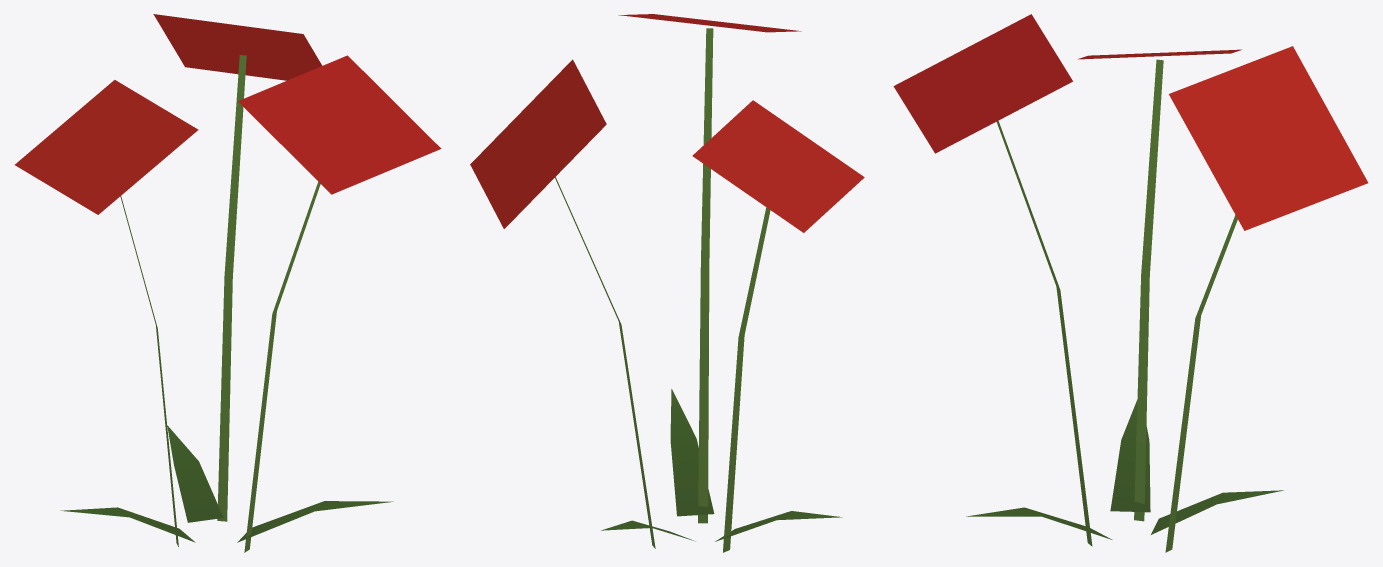
The model's file is flower.meadow.red.glb.
The picture shows the model from 3 angles, left to right: view 1: azimuth 30°, elevation 25°; view 2: azimuth 150°, elevation 25°; view 3: azimuth 270°, elevation 25°; orthographic projection. The views are drawn at different scales.
Parts seen in each view (by area): view 1: flower_meadow_red; view 2: flower_meadow_red; view 3: flower_meadow_red.
Part boxes in pixels (left/top/right/bottom): flower_meadow_red: left=15, top=14, right=441, bottom=552; flower_meadow_red: left=470, top=14, right=864, bottom=552; flower_meadow_red: left=893, top=14, right=1368, bottom=552.
Bounding box in the file's own units: 0.3003 × 0.4204 × 0.3537.
